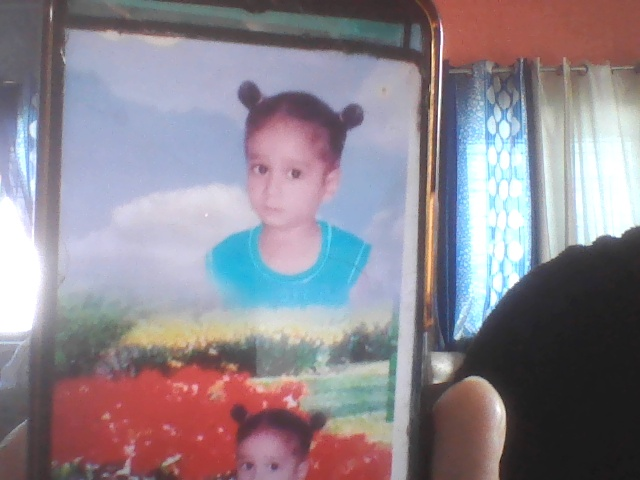fake: (238, 89, 344, 240)
